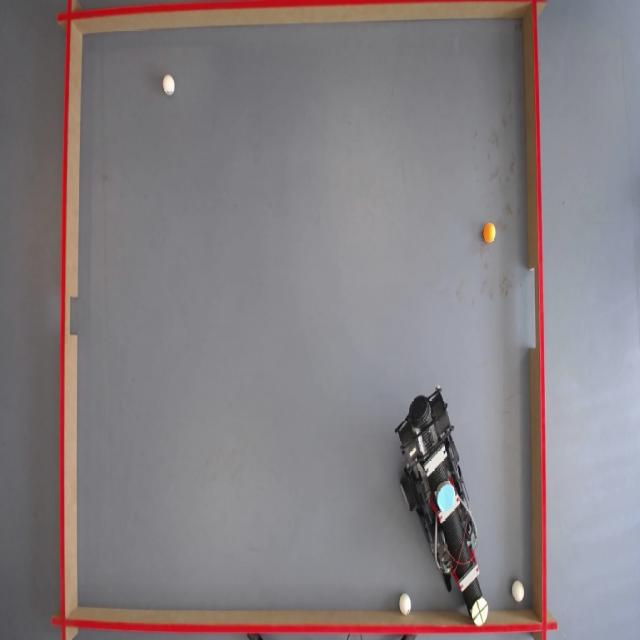orange: (484, 224, 497, 244)
robot: (396, 382, 485, 619)
robot-front: (473, 599, 490, 626)
robot-rear: (438, 483, 457, 515)
white: (399, 594, 412, 615), (163, 75, 176, 95), (513, 582, 525, 603)
